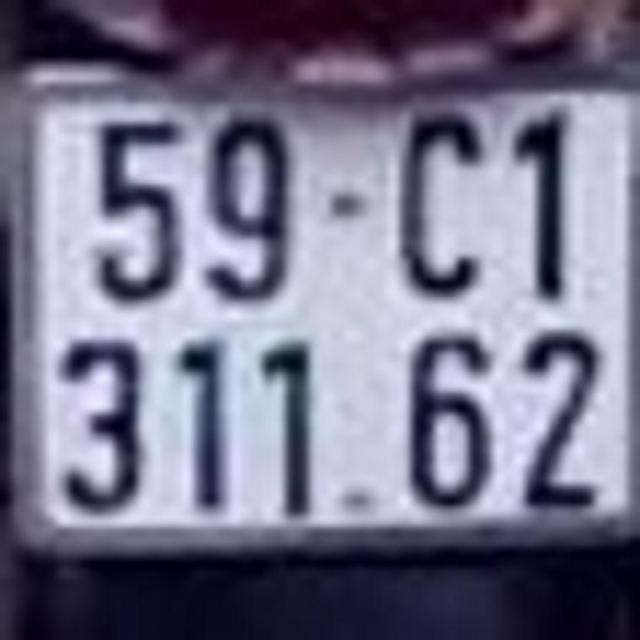1: (508, 97, 586, 313), (260, 308, 326, 524), (166, 320, 242, 507)
2: (519, 302, 603, 504)
3: (55, 326, 146, 526)
5: (86, 112, 188, 309)
6: (405, 311, 496, 524)
9: (207, 106, 301, 313)
C: (393, 92, 497, 300)
